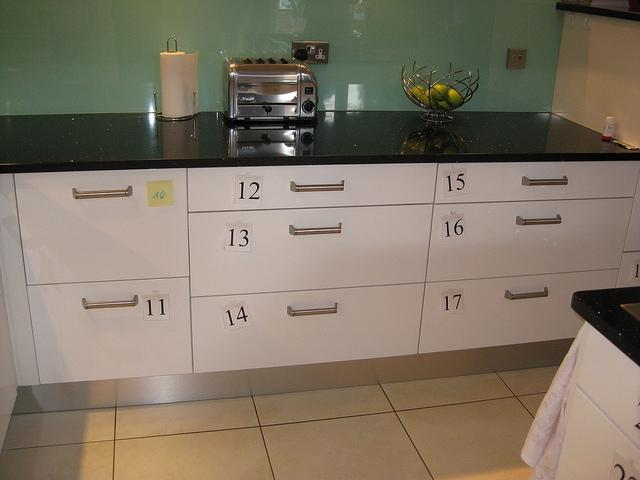apple: (431, 84, 448, 102), (446, 90, 462, 107), (412, 85, 426, 98)
